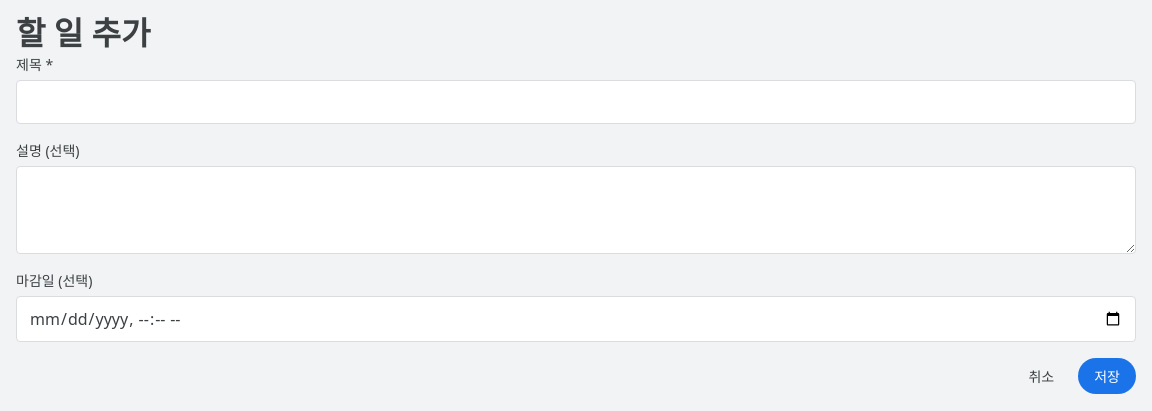
Test: TodoNewPage › 저장 중 버튼 비활성화
Step 1. Type "새 할 일" into the field labelled "제목 *" → (576, 102), box x1=16 y1=80 x2=1136 y2=124
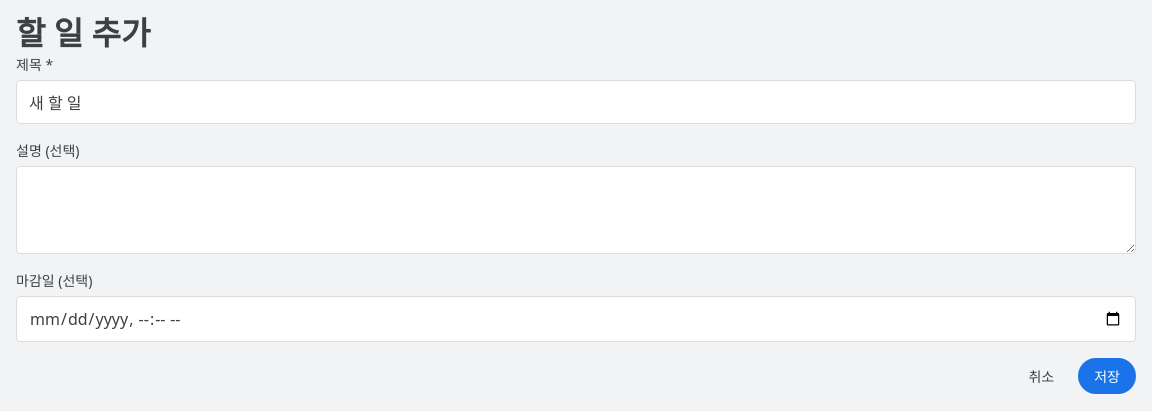
Step 2. Click the button "저장" → (1107, 376), box x1=1078 y1=358 x2=1136 y2=394
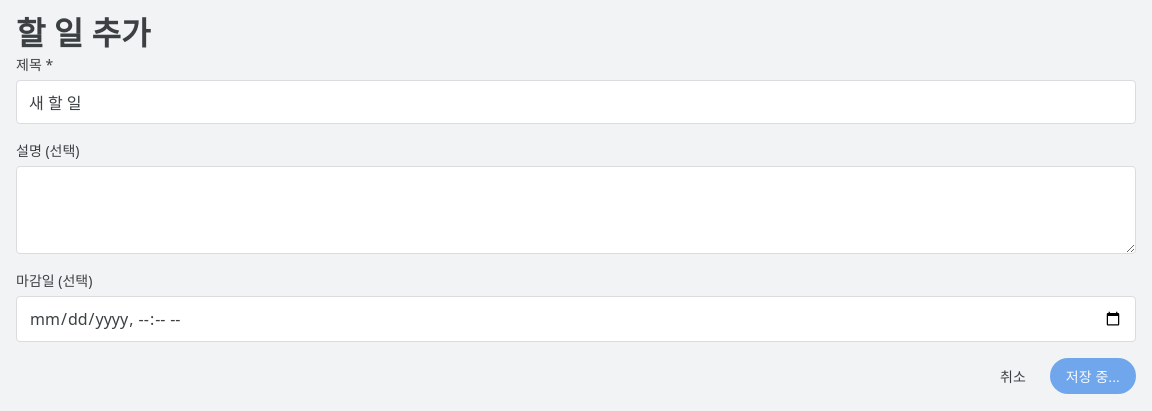
Now the button "저장 중..." is disabled, box x1=1050 y1=358 x2=1136 y2=394
